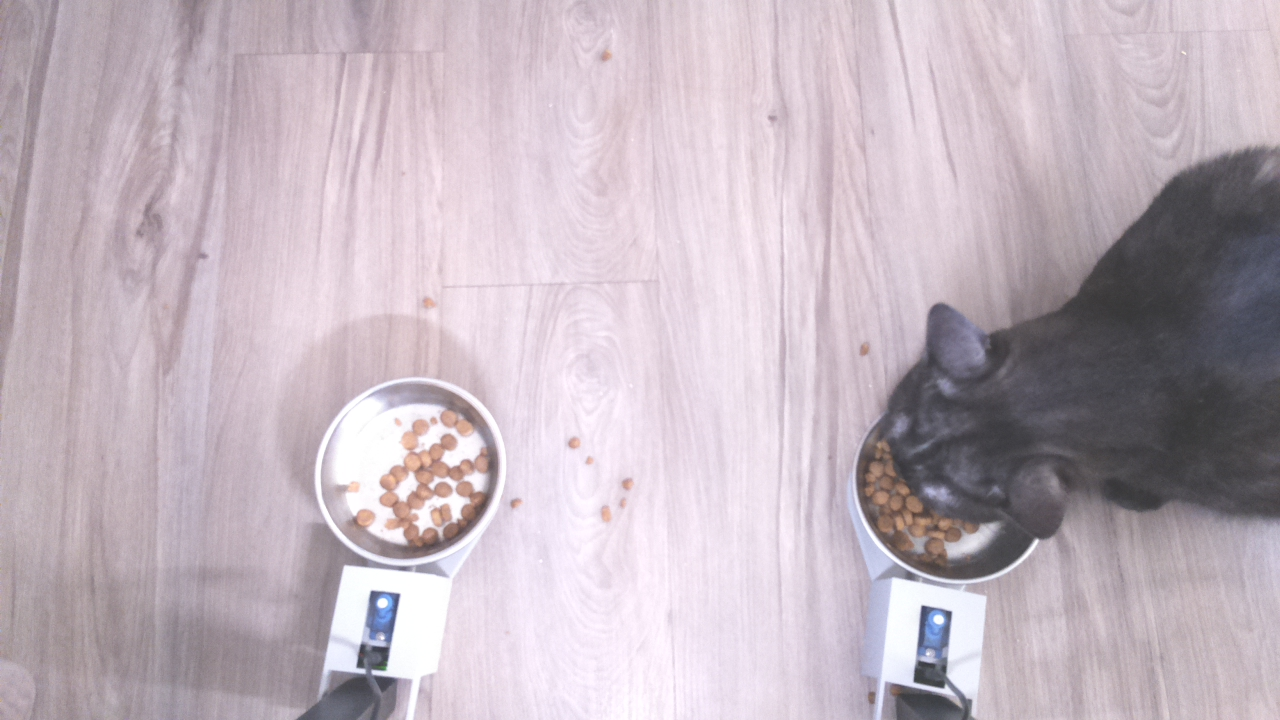open_bowl: (309, 375, 508, 568)
saki_eating: (827, 277, 1098, 597)
